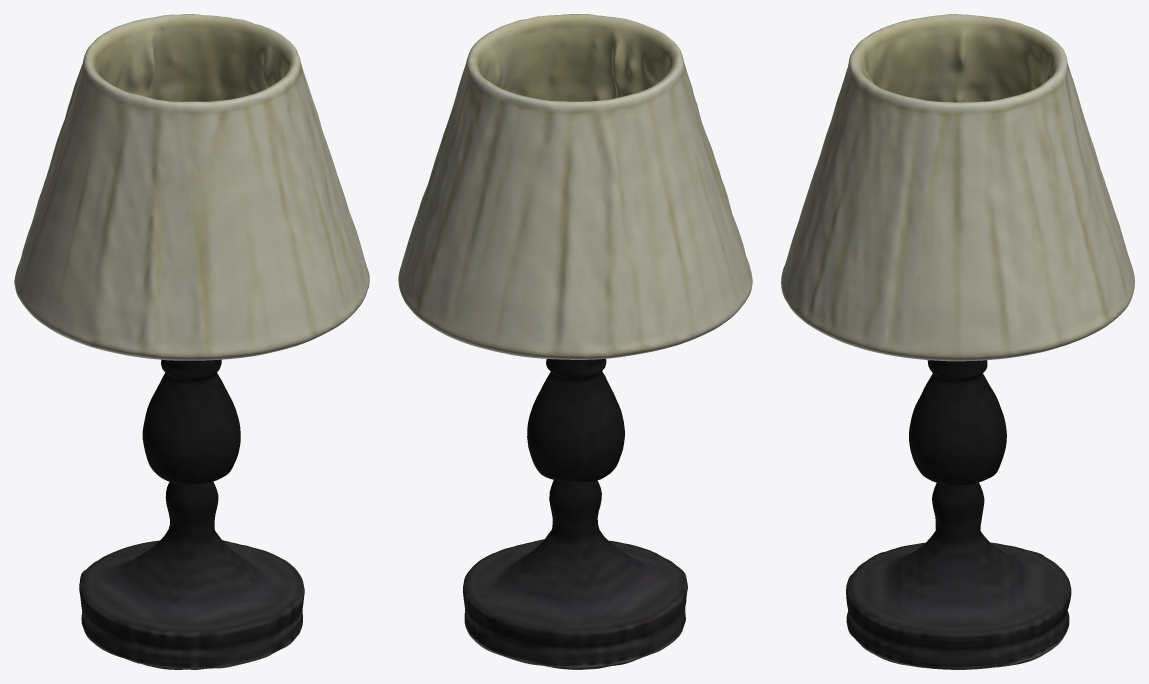
The model's file is baa9badf4b1e_lamp__3d_asset_0_gl.fbx.
3 renders of one model, left to right at view 1: azimuth 30°, elevation 25°; view 2: azimuth 150°, elevation 25°; view 3: azimuth 270°, elevation 25°, orthographic.
Visible parts, largest first — view 1: high_poly; view 2: high_poly; view 3: high_poly.
Part boxes in pixels (x1,y1,x2,y2): high_poly: (14, 14, 369, 669); high_poly: (398, 14, 752, 669); high_poly: (781, 14, 1134, 669).
Size of the model in its own units: 56.05 by 100 by 56.25.
